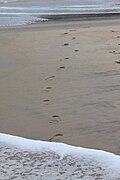human_footprint: (49, 133, 62, 141), (49, 114, 60, 122), (41, 86, 51, 92), (45, 75, 54, 80), (109, 50, 119, 54), (43, 99, 49, 104), (57, 66, 64, 70), (60, 57, 68, 60), (109, 50, 115, 53), (46, 86, 51, 89), (74, 49, 79, 52), (64, 57, 69, 60), (72, 37, 76, 40), (115, 60, 119, 63), (61, 32, 67, 34), (116, 35, 120, 38), (69, 29, 75, 31), (59, 66, 64, 68), (111, 30, 116, 32), (64, 43, 68, 45)
